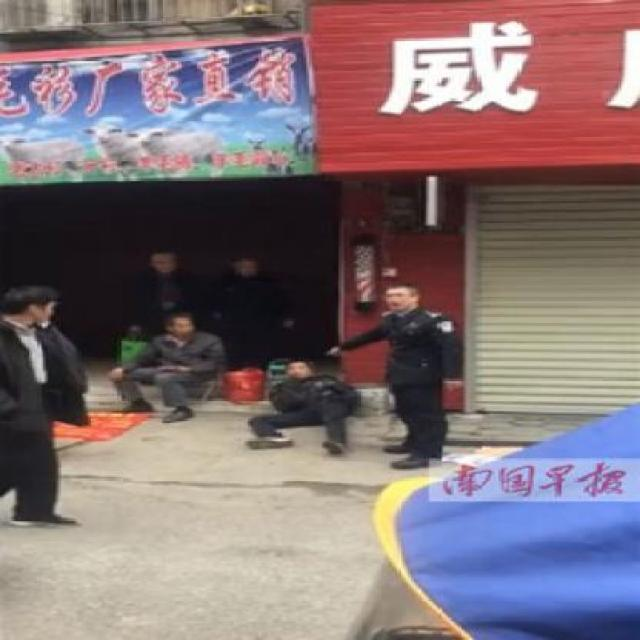fall: (229, 352, 360, 457)
